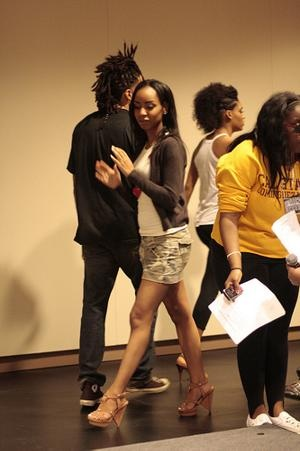person without safety: (115, 76, 195, 335)
